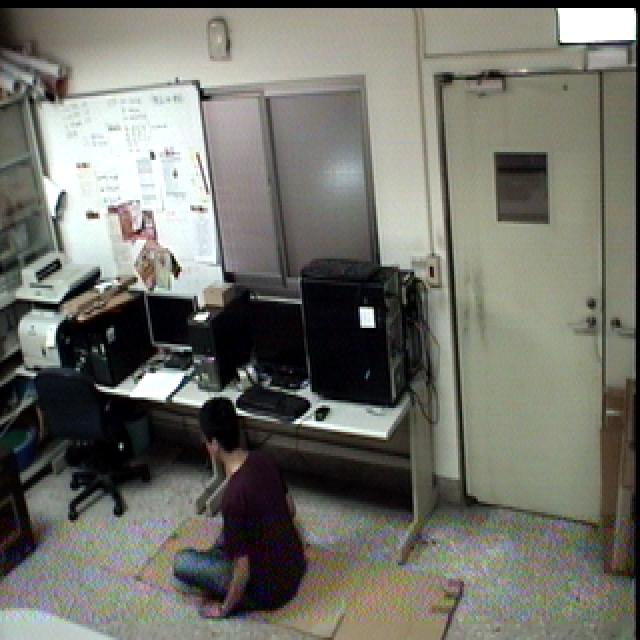sit: (167, 389, 318, 625)
